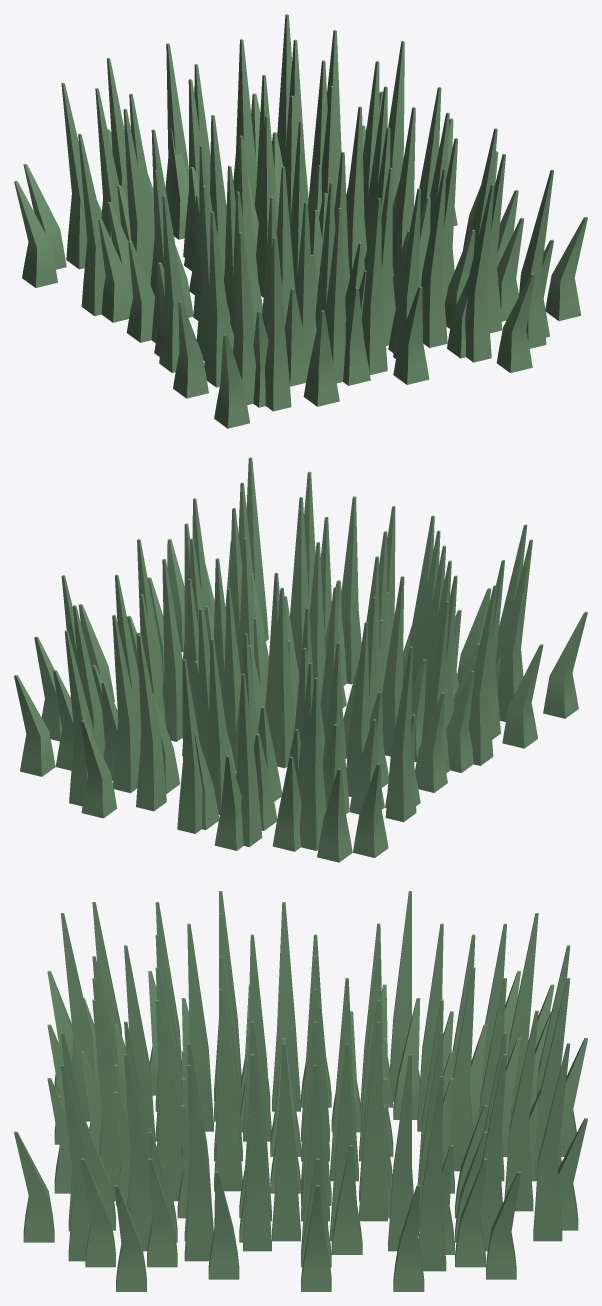
File: Grass.fbx
The picture shows the model from 3 angles, top to bottom: view 1: azimuth 30°, elevation 25°; view 2: azimuth 150°, elevation 25°; view 3: azimuth 270°, elevation 25°; orthographic projection. The views are drawn at different scales.
Visible parts, largest first — view 1: pPlane3; view 2: pPlane3; view 3: pPlane3.
Boxes of the visible parts, x1=… form: pPlane3: x1=14, y1=14, x2=587, y2=428; pPlane3: x1=14, y1=457, x2=587, y2=862; pPlane3: x1=14, y1=891, x2=587, y2=1291.
Size of the model in its own units: 8.18 by 3.5 by 9.22.
